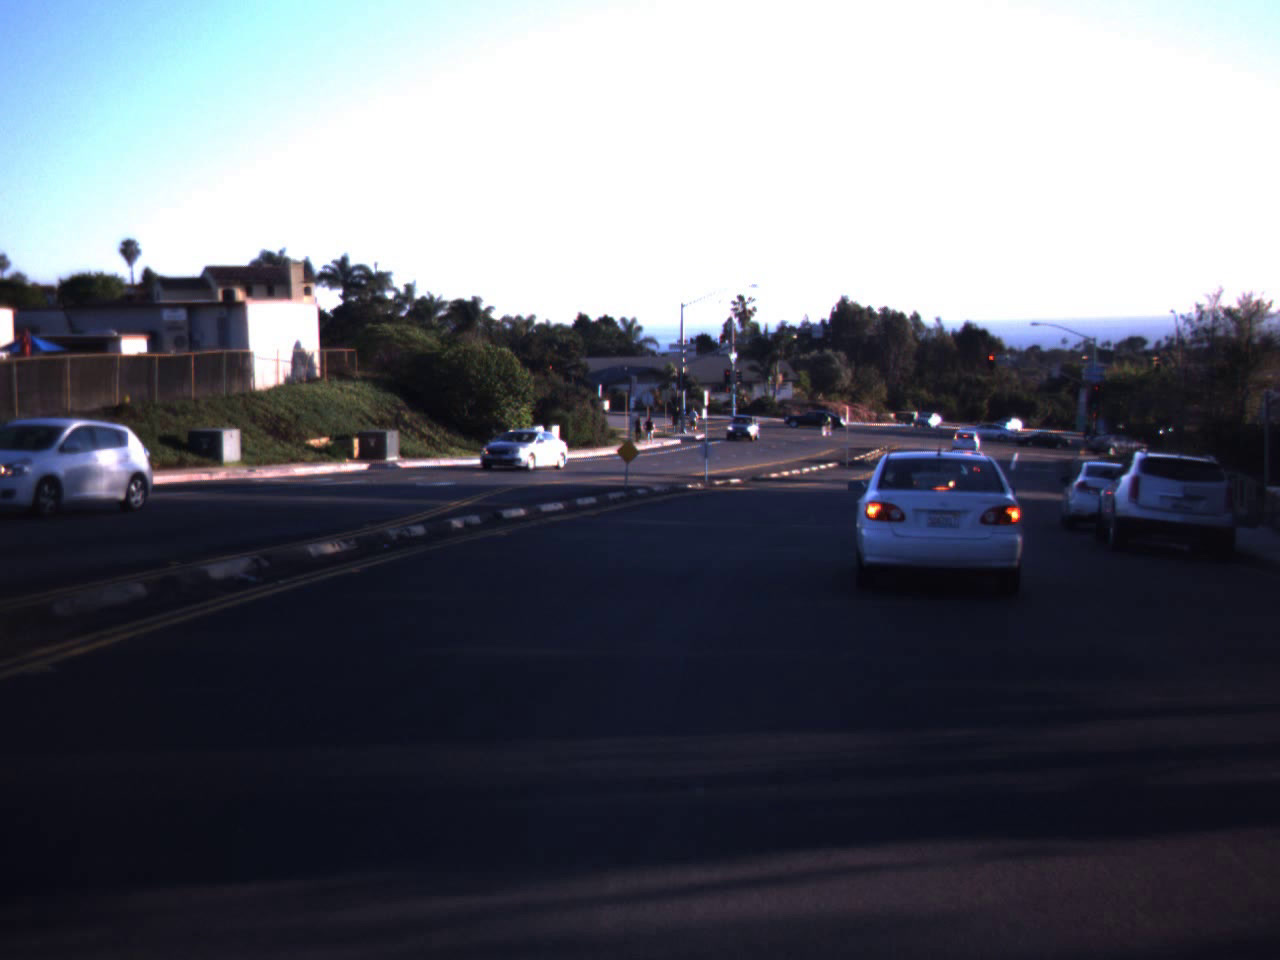stop: (985, 354, 997, 372)
